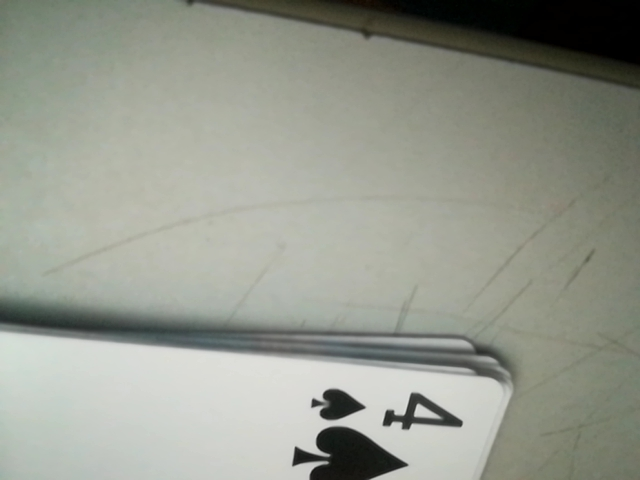ht 4: (299, 377, 478, 434)
